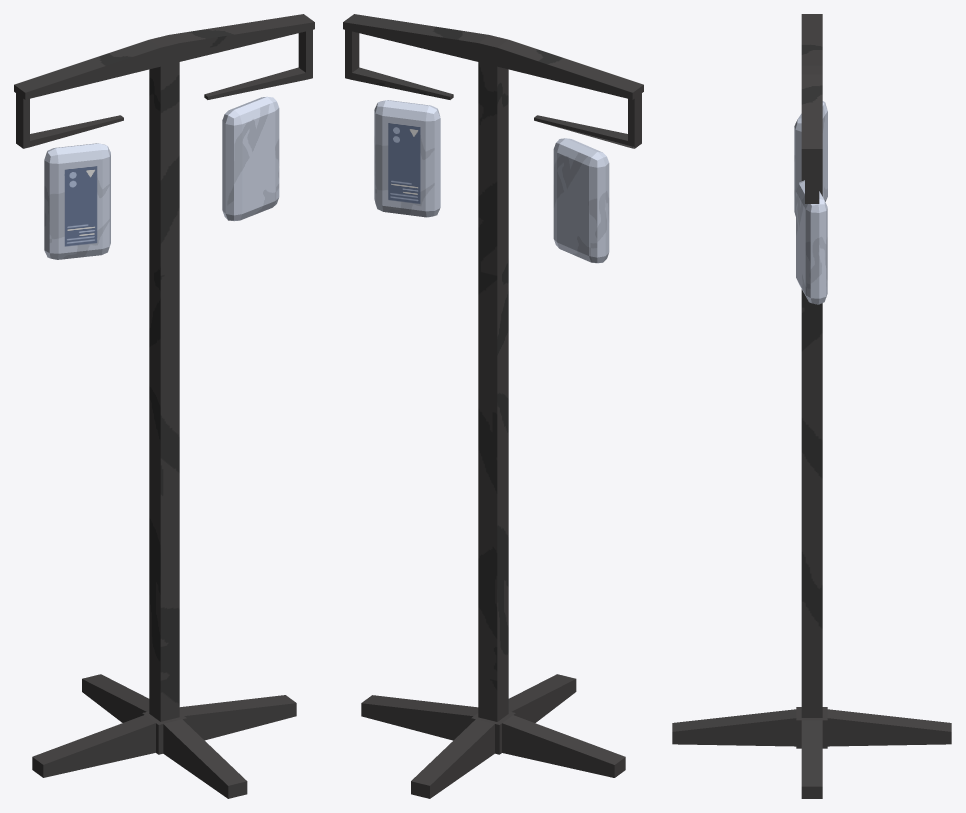
File: IVrack.obj
3 renders of one model, left to right at view 1: azimuth 30°, elevation 25°; view 2: azimuth 150°, elevation 25°; view 3: azimuth 270°, elevation 25°, orthographic. The views are drawn at different scales.
Parts seen in each view (by area): view 1: rack, bag, bag.001; view 2: rack, bag.001, bag; view 3: rack, bag.001, bag.
Part boxes in pixels (box(x1,y1,x2,y2)): rack: box(14, 14, 314, 798); bag: box(44, 143, 110, 259); bag.001: box(222, 96, 279, 221); rack: box(343, 14, 643, 798); bag.001: box(374, 100, 440, 217); bag: box(553, 138, 609, 263); rack: box(672, 14, 951, 798); bag.001: box(796, 180, 827, 304); bag: box(794, 101, 827, 216).
Size of the model in its own units: 2.05 by 4.76 by 1.79.
Materials: 3 (3 with a texture image).
